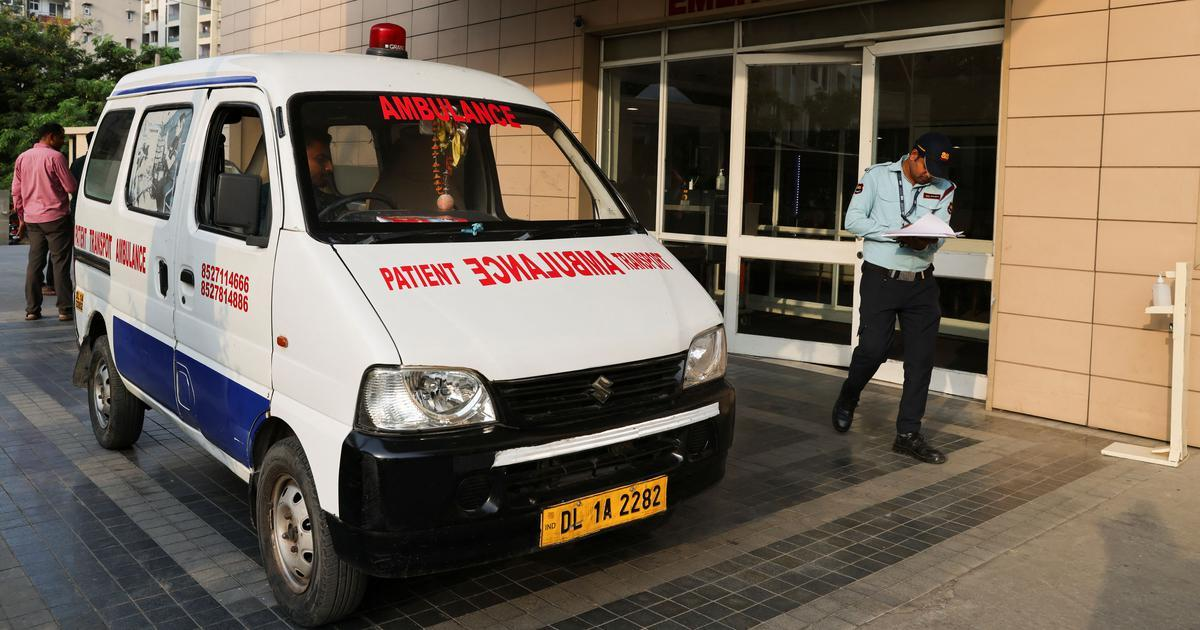ambulance: (70, 26, 752, 630)
